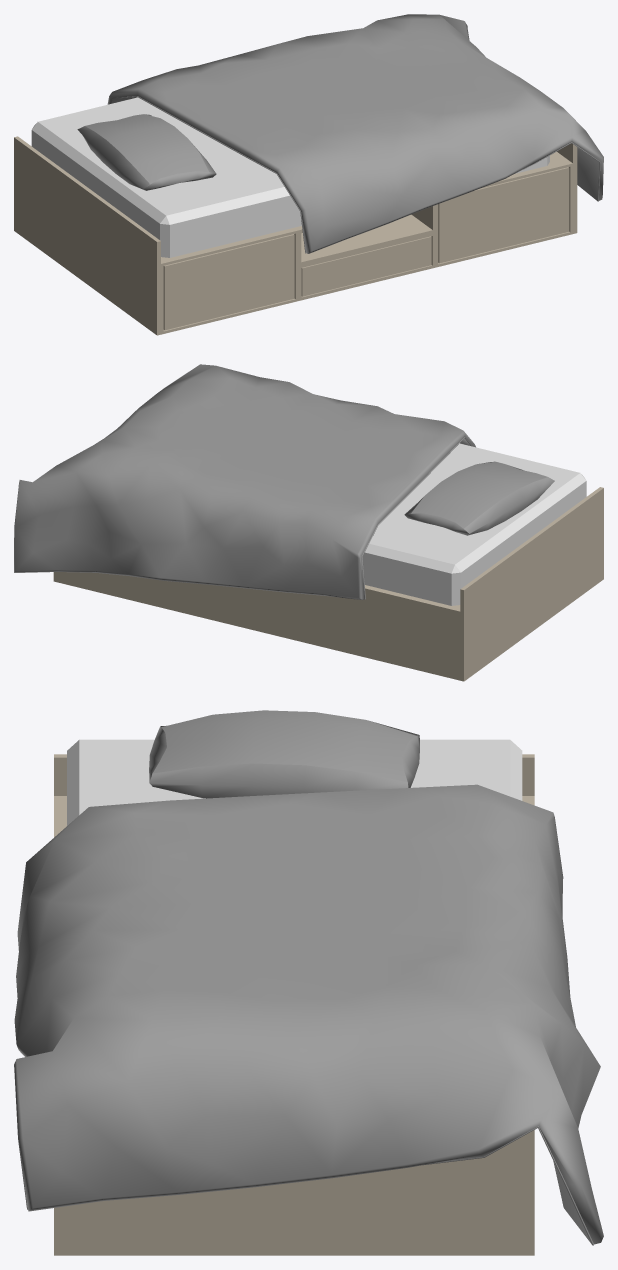
The model's file is bed.fbx.
3 views of the same model, one above another, from view 1: azimuth 30°, elevation 25°; view 2: azimuth 150°, elevation 25°; view 3: azimuth 270°, elevation 25° (orthographic). The views are drawn at different scales.
Parts seen in each view (by area): view 1: bed; view 2: bed; view 3: bed.
Part boxes in pixels (left/top/right/bottom): bed: left=14, top=14, right=603, bottom=335; bed: left=14, top=364, right=603, bottom=681; bed: left=14, top=710, right=603, bottom=1255.
Bounding box in the file's own units: 4.44 × 1.25 × 2.97.
